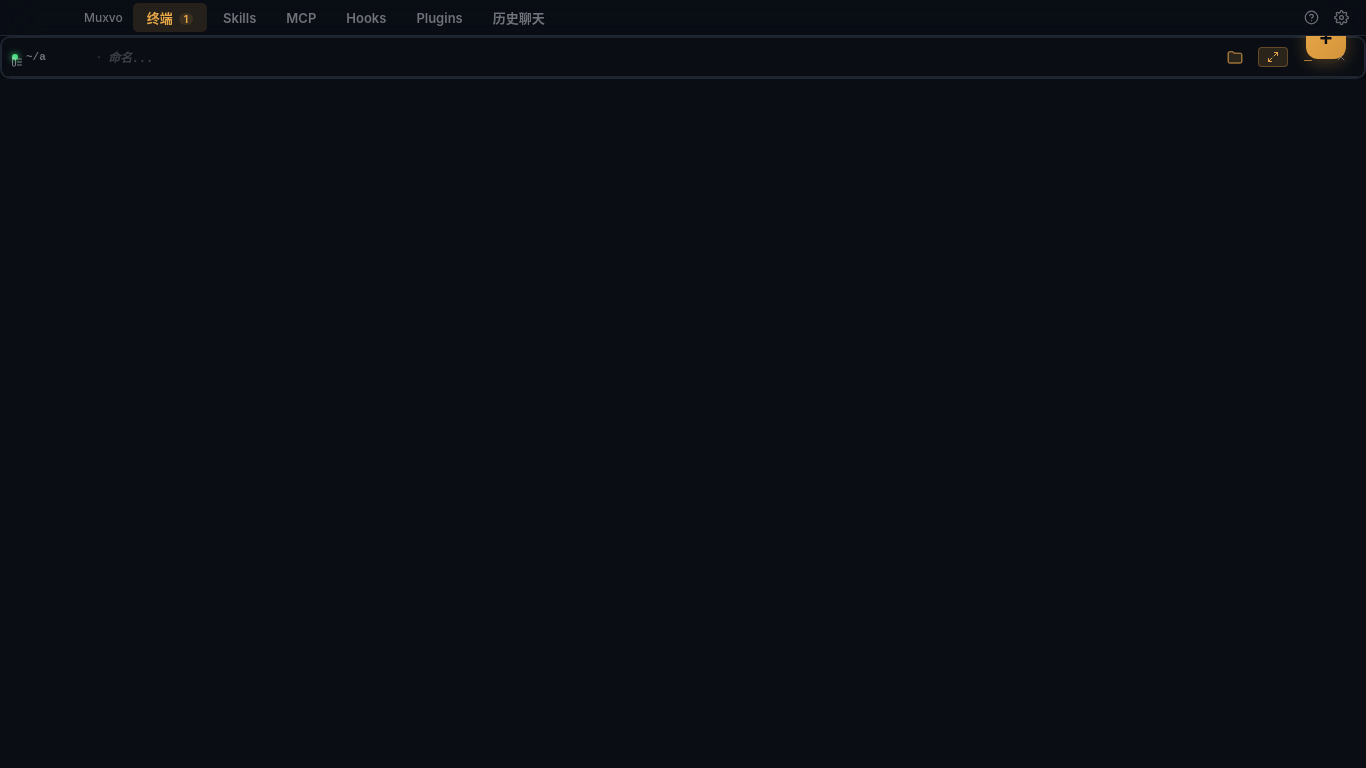
it: What's New live（auto-update.md §7；whats-new-modal.md） › 设置面板「查看更新内容」链接 → 打开同一 What's New 弹窗（不再次查询 whatsNewStatus）
Click the 2nd button with class "menu-bar__icon-btn" at (1341, 18), box [1328,4,1354,30]
(page scrolled)
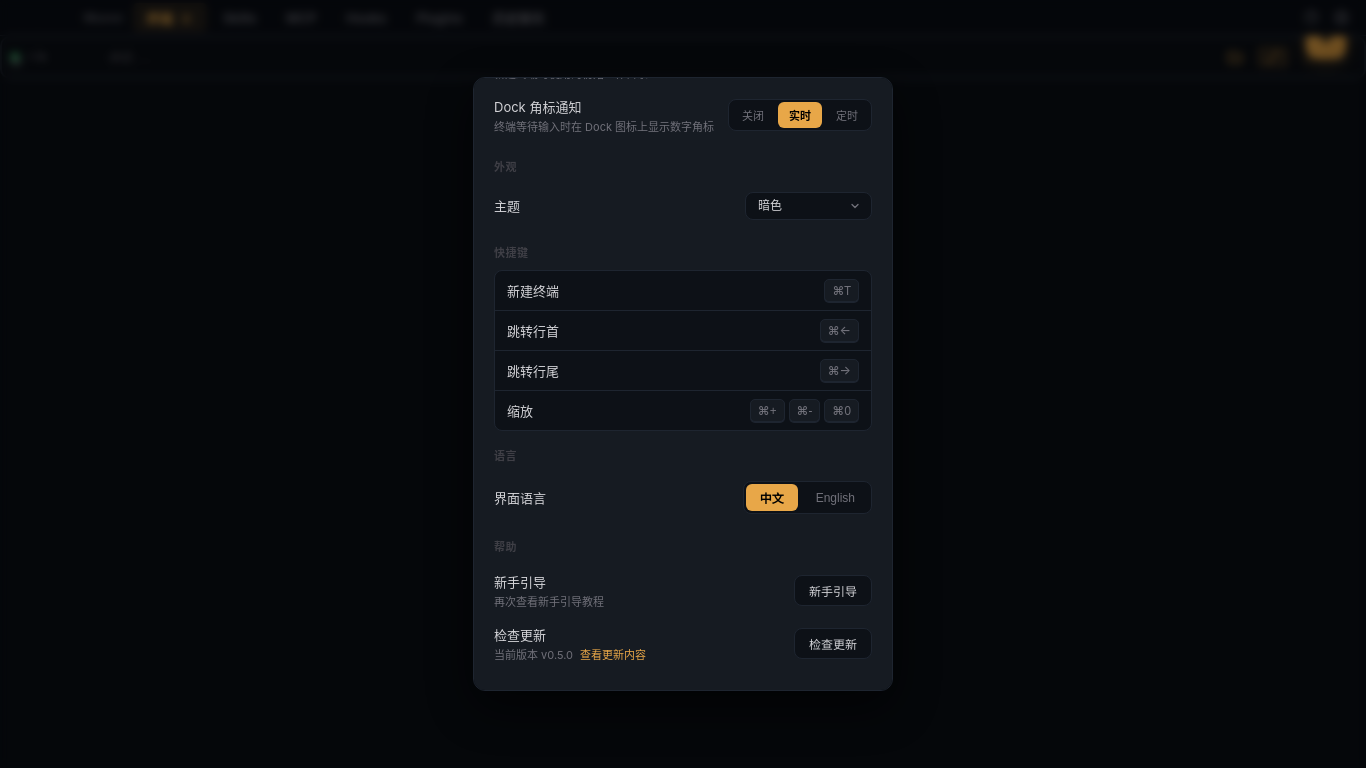
Expected: the link with class "settings-modal__whats-new-link" is shown
Click the link with class "settings-modal__whats-new-link" at (613, 655), box [580,648,646,662]
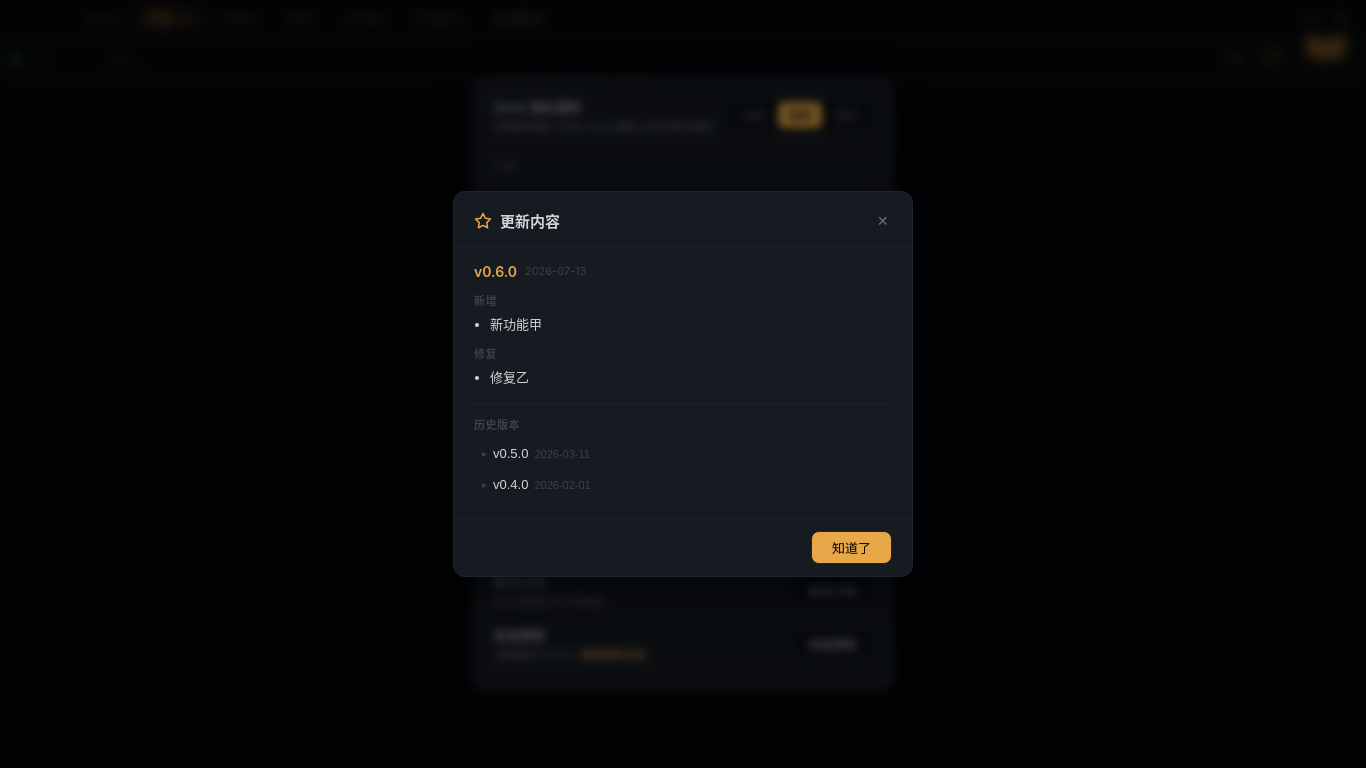
Expected: the element with class "whats-new__modal" is shown, [453,191,913,577]
